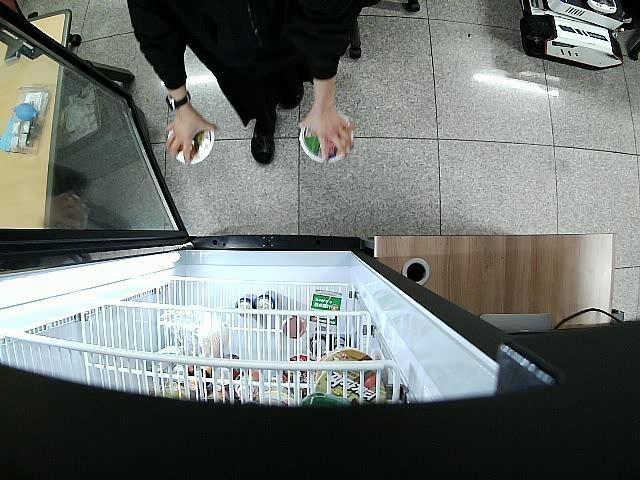09_yukGaeJang: (300, 117, 354, 166), (167, 126, 216, 170)
